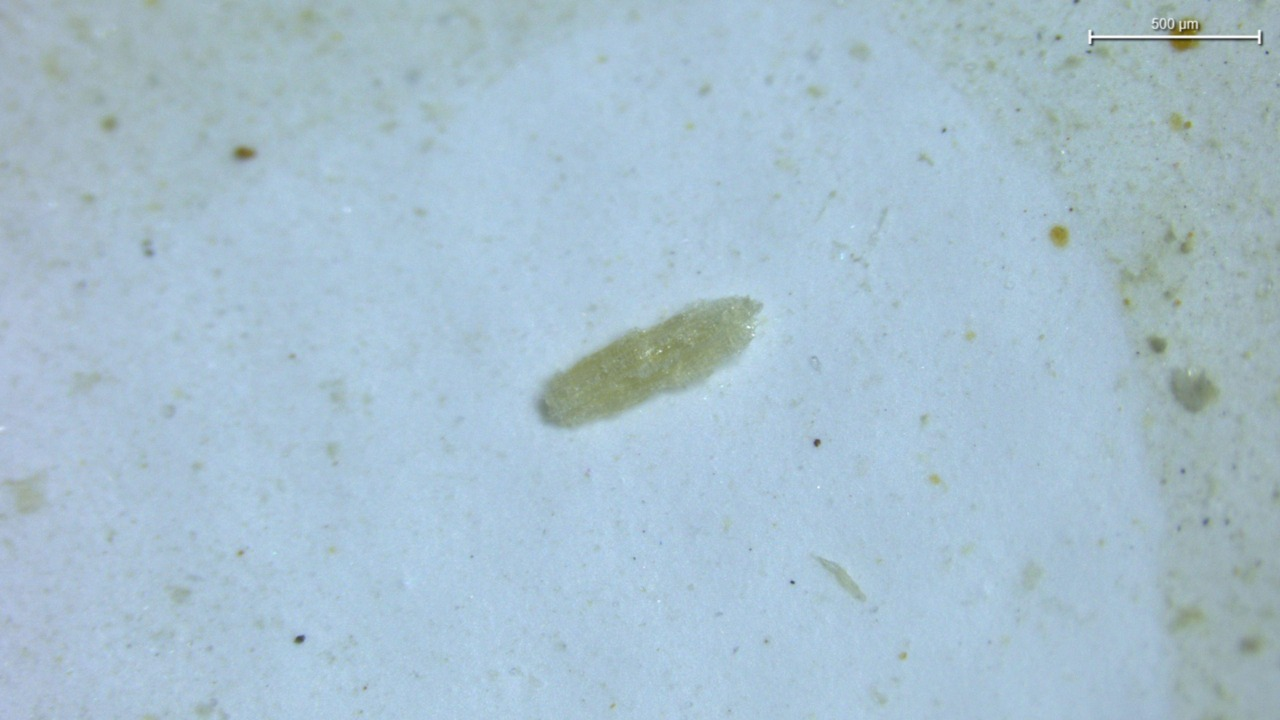microplastic_fragment: (540, 296, 762, 427)
